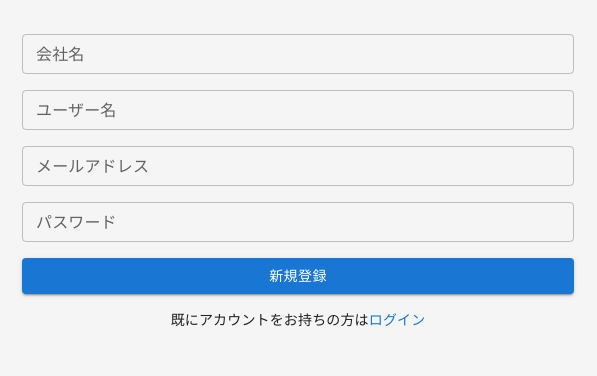
Test: SignupPage › AUTH-FE-028: 500 INTERNAL_ERROR エラー時にサーバーエラーメッセージが表示される
In the field labelled "会社名": (298, 54) [22,34,574,74], type "Test Corp"
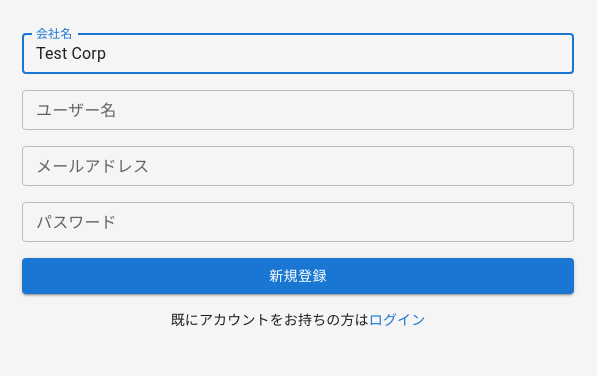
In the field labelled "ユーザー名": (298, 110) [22,90,574,130], type "Test User"
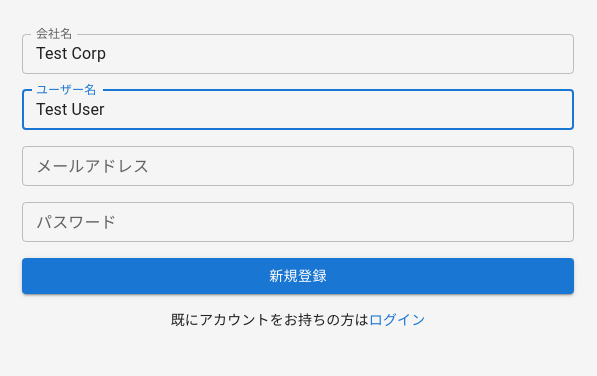
In the field labelled "メールアドレス": (298, 166) [22,146,574,186], type "new@example.com"
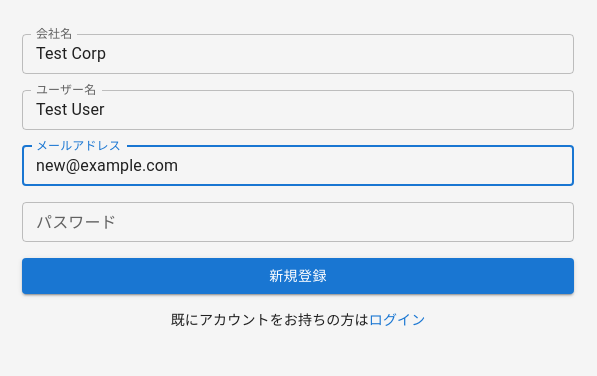
In the password field labelled "パスワード": (298, 222) [22,202,574,242], type "TestPass1!"
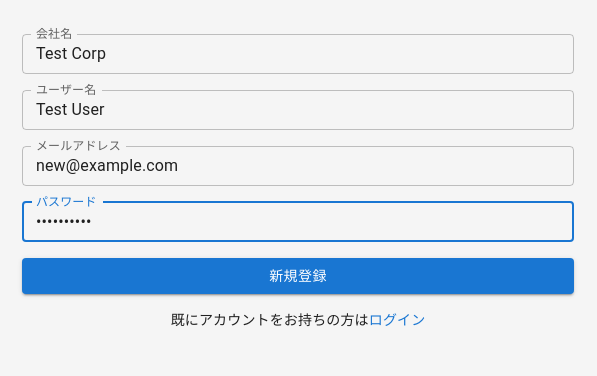
Click the button "新規登録": (298, 276) [22,258,574,294]
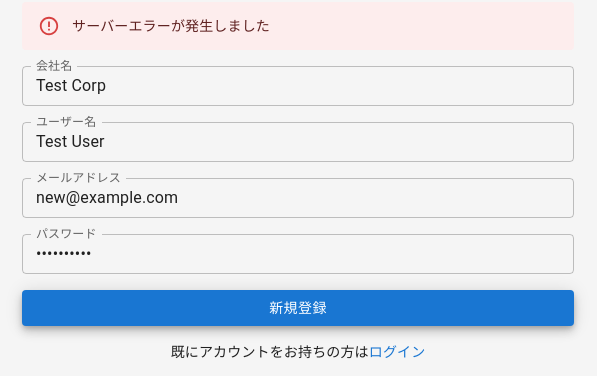
expect the text "サーバーエラーが発生しました" is shown: met, box [72,18,270,34]
